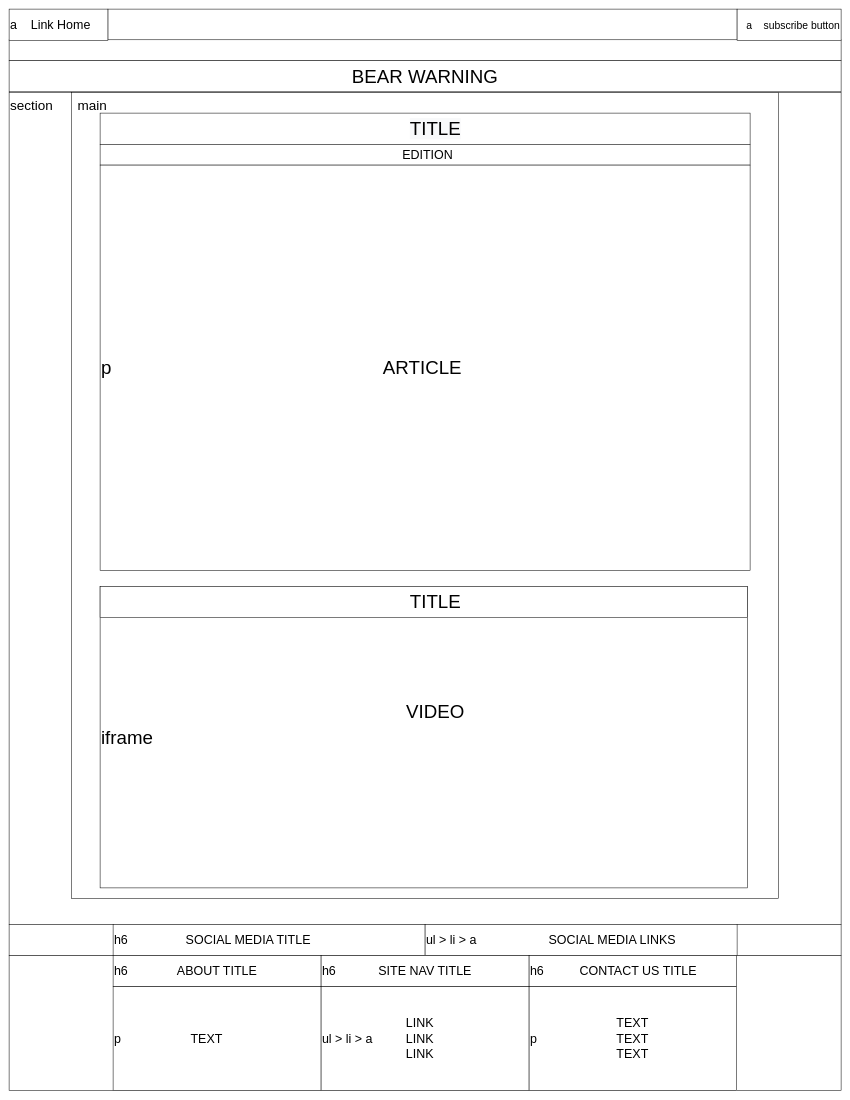
Some shapes in this 850 by 1100 pixel diagram are drawn without their labels. Here are the shapes that lost their labels. From the top down, the box of each, then its label:
(107, 9, 737, 40): nav > ul > li
(9, 39, 841, 61): nav> ol > li BREADCRUMBS BAR
(9, 60, 841, 92): div .alert
(100, 113, 750, 144): h1
(100, 144, 750, 165): p > small
(100, 586, 748, 618): h3
